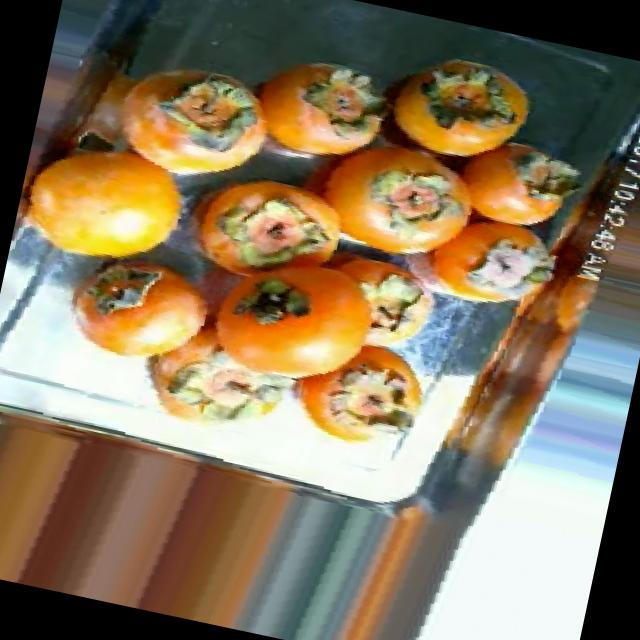Fruit: (10, 115, 214, 278), (260, 312, 453, 476), (360, 35, 550, 176)
